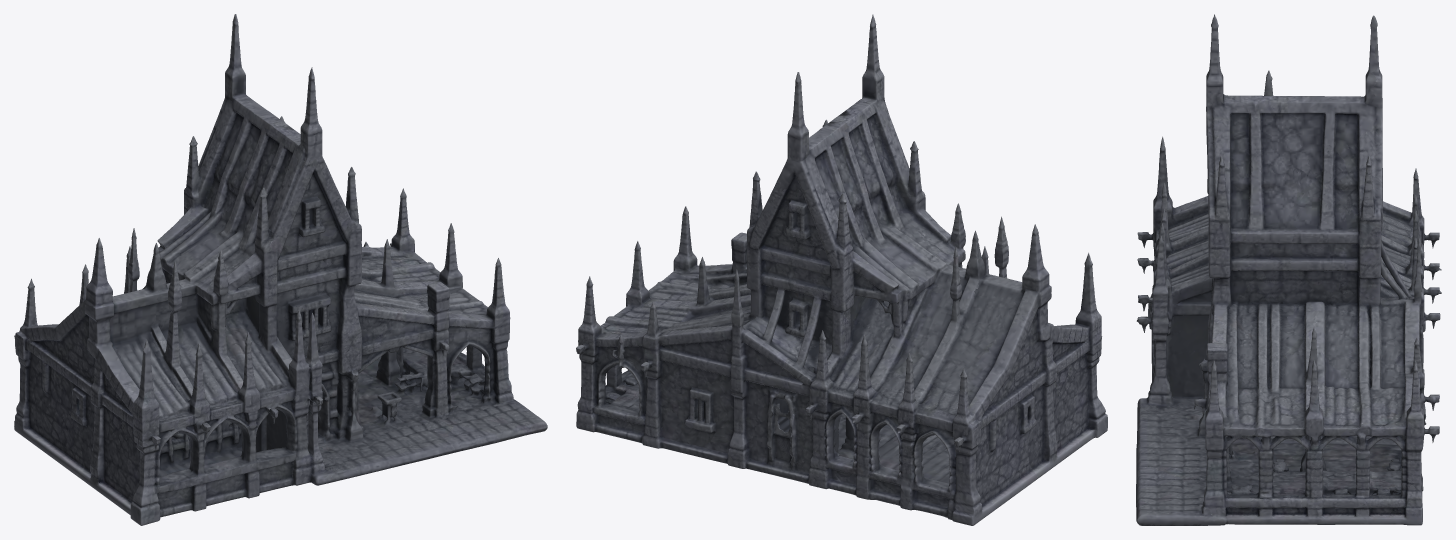
Rendered from schmiede.glb.
The picture shows the model from 3 angles, left to right: view 1: azimuth 30°, elevation 25°; view 2: azimuth 150°, elevation 25°; view 3: azimuth 270°, elevation 25°; orthographic projection. The views are drawn at different scales.
Bounding box in the file's own units: 1.9 × 1.75 × 1.18.
1 material, 1 textured.
